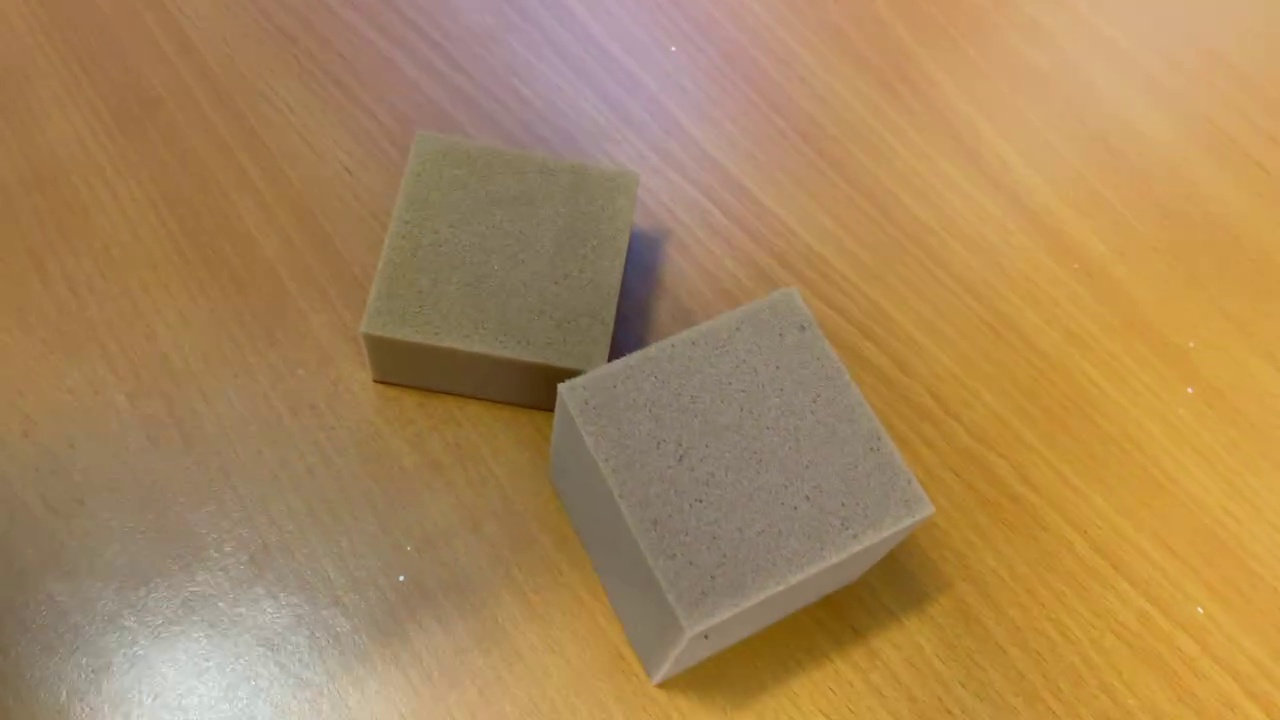Cube: (543, 277, 941, 695)
Cube_short: (354, 122, 651, 423)
